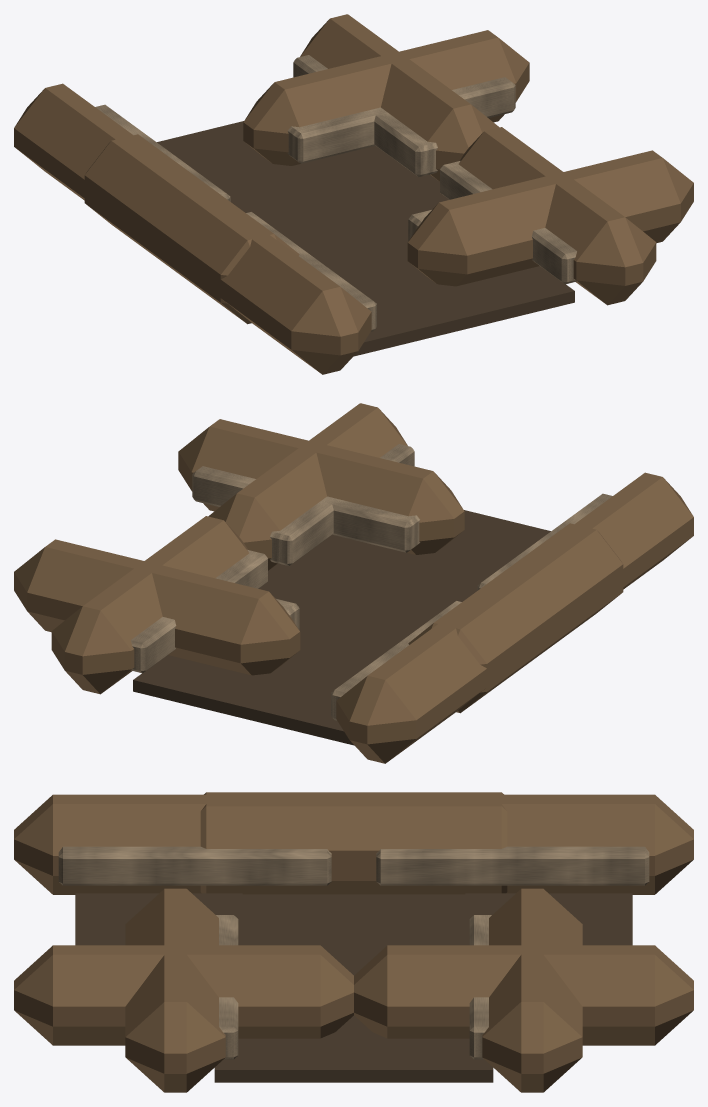
File: trench_junction.glb
3 renders of one model, top to bottom at view 1: azimuth 30°, elevation 25°; view 2: azimuth 150°, elevation 25°; view 3: azimuth 270°, elevation 25°, orthographic. The views are drawn at different scales.
Visible parts, largest first — view 1: trench_junction__Earth_revetment, trench_junction__Trench_dark_earth, trench_junction__Timber_worn_edges; view 2: trench_junction__Earth_revetment, trench_junction__Trench_dark_earth, trench_junction__Timber_worn_edges; view 3: trench_junction__Earth_revetment, trench_junction__Trench_dark_earth, trench_junction__Timber_worn_edges.
Part boxes in pixels (x1=…): trench_junction__Earth_revetment: x1=14, y1=14, x2=693, y2=374; trench_junction__Trench_dark_earth: x1=157, y1=121, x2=574, y2=356; trench_junction__Timber_worn_edges: x1=95, y1=55, x2=576, y2=331; trench_junction__Earth_revetment: x1=14, y1=403, x2=693, y2=763; trench_junction__Trench_dark_earth: x1=133, y1=510, x2=550, y2=745; trench_junction__Timber_worn_edges: x1=131, y1=444, x2=612, y2=720; trench_junction__Earth_revetment: x1=14, y1=792, x2=693, y2=1092; trench_junction__Trench_dark_earth: x1=75, y1=893, x2=632, y2=1082; trench_junction__Timber_worn_edges: x1=58, y1=846, x2=649, y2=1059.
Size of the model in its own units: 1.02 by 0.18 by 1.22.
3 materials, 1 textured.
